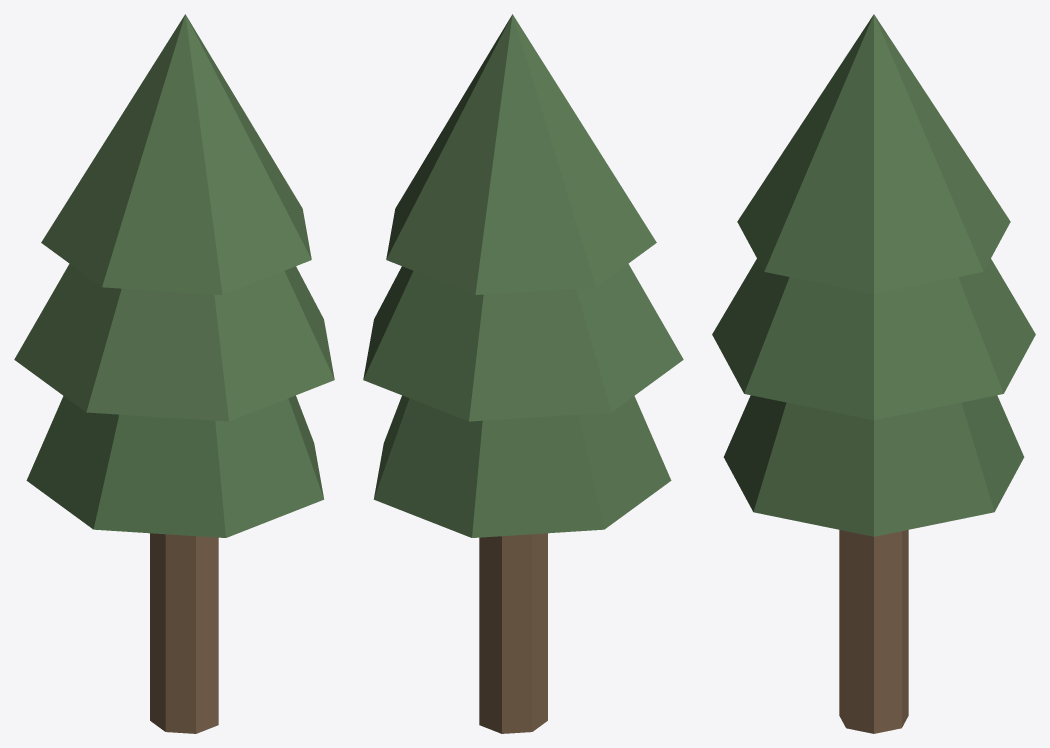
File: Tree.fbx
The picture shows the model from 3 angles, left to right: view 1: azimuth 30°, elevation 25°; view 2: azimuth 150°, elevation 25°; view 3: azimuth 270°, elevation 25°; orthographic projection.
Visible parts, largest first — view 1: pCylinder2; view 2: pCylinder2; view 3: pCylinder2.
Part boxes in pixels (bbox=[...]): pCylinder2: bbox=[14, 14, 334, 733]; pCylinder2: bbox=[363, 14, 683, 733]; pCylinder2: bbox=[712, 14, 1035, 733].
Bounding box in the file's own units: 5.77 × 14.21 × 5.92.
